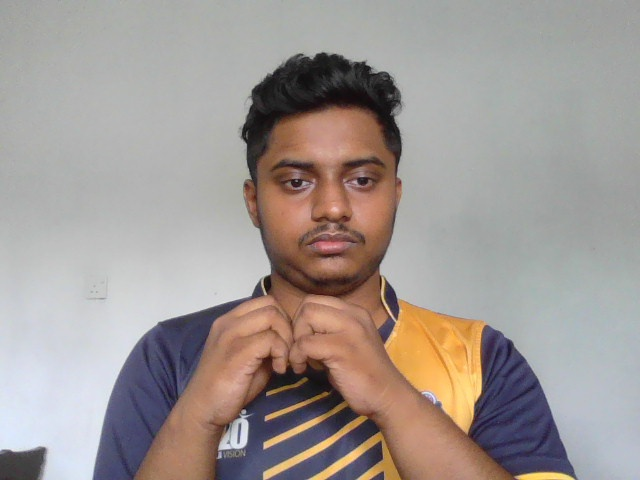More: (197, 292, 393, 428)
